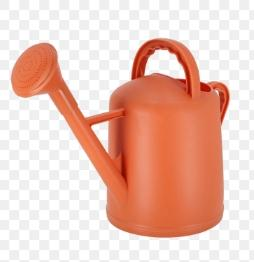ARROSOIR: (9, 6, 233, 240)
